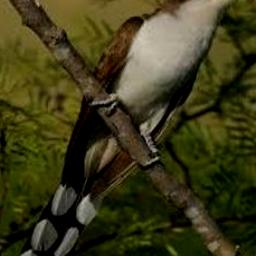Cuckoo: (17, 0, 256, 256)
